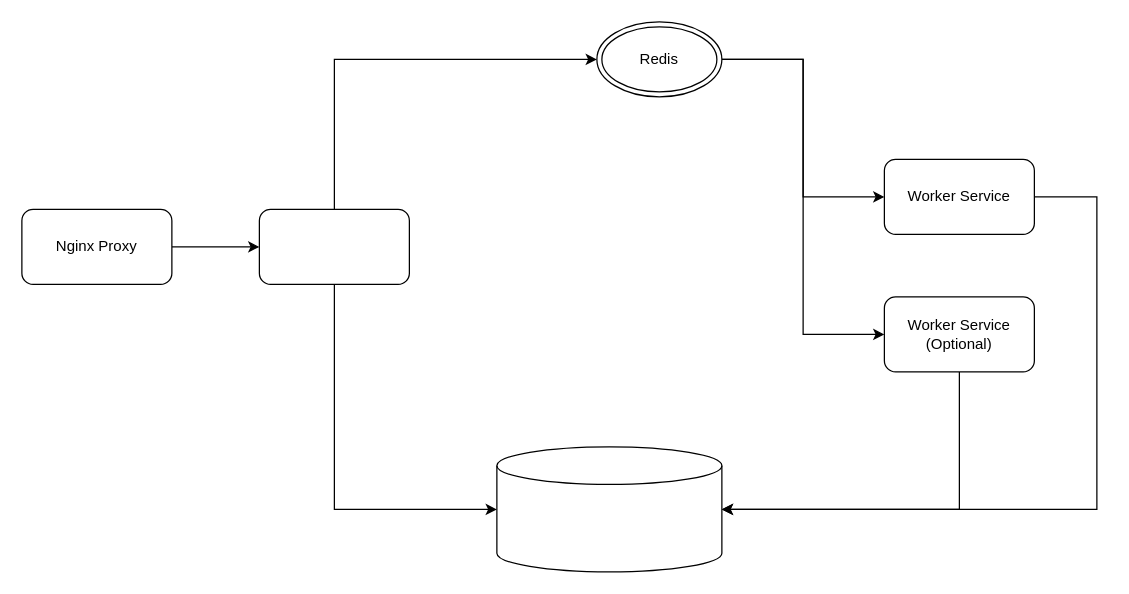
Image size: 1129x594. Some labels were removed from this diagram. Each missing label, with the centre of its shape:
"Main Service" goes at point 333,246.
"PostgreSQL" goes at point 609,509.
